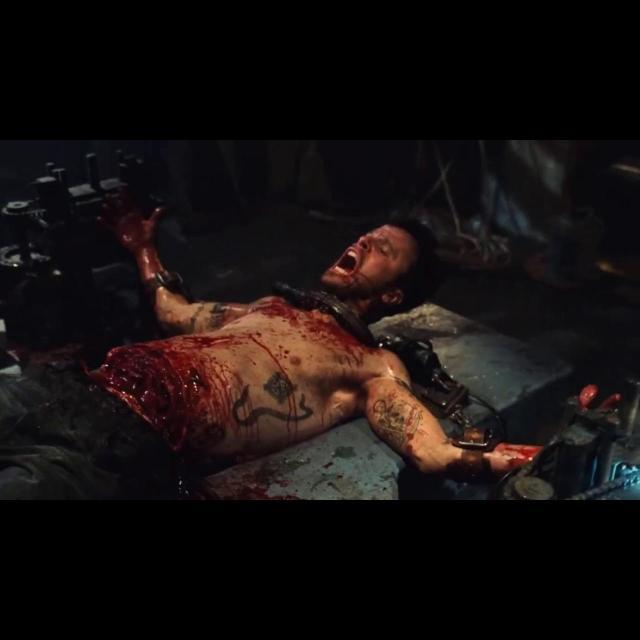blood: (90, 192, 465, 471), (322, 224, 418, 315), (202, 454, 302, 500), (490, 443, 543, 474), (570, 384, 600, 411), (598, 393, 622, 412)
